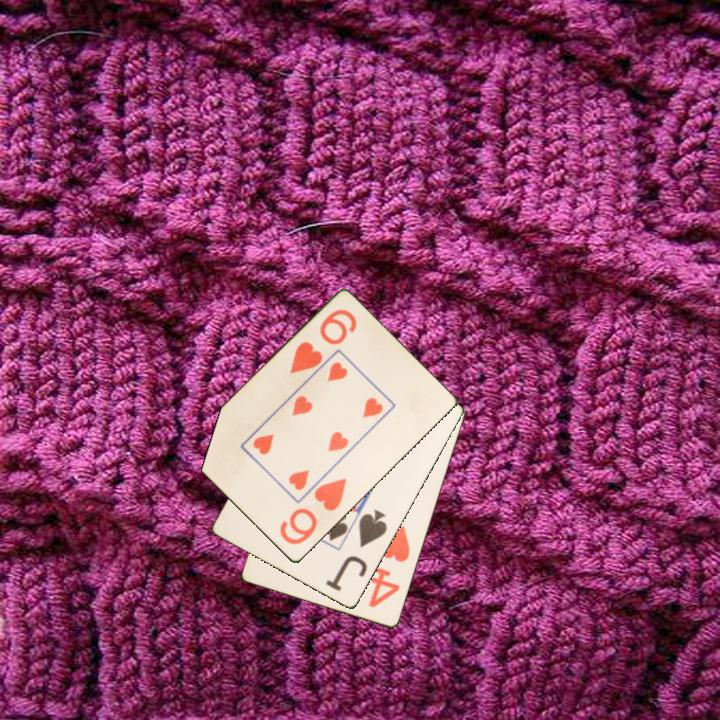4h: (365, 522, 413, 611)
6h: (276, 475, 350, 548), (286, 306, 360, 377)
Js: (322, 506, 390, 595)
